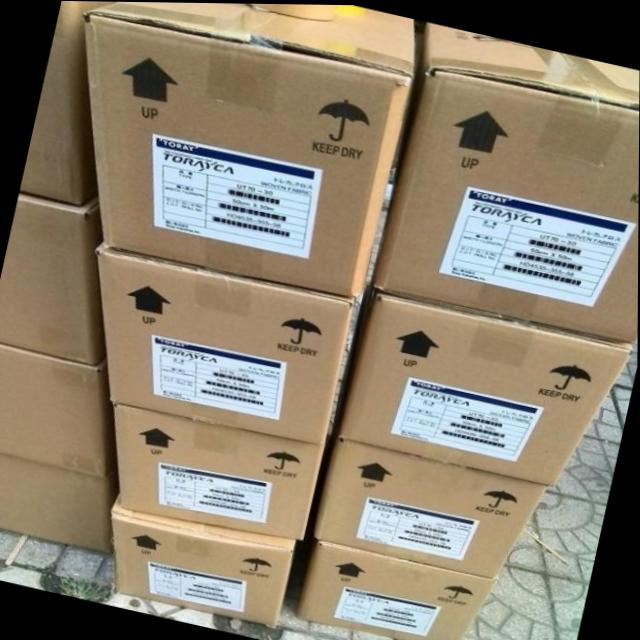box: (85, 1, 414, 296), (372, 22, 640, 342), (336, 288, 630, 483), (98, 246, 353, 444), (312, 435, 547, 578), (115, 402, 323, 539), (109, 496, 295, 628), (18, 1, 117, 207), (295, 539, 494, 640), (0, 196, 104, 365), (0, 346, 116, 477), (0, 455, 121, 553)
